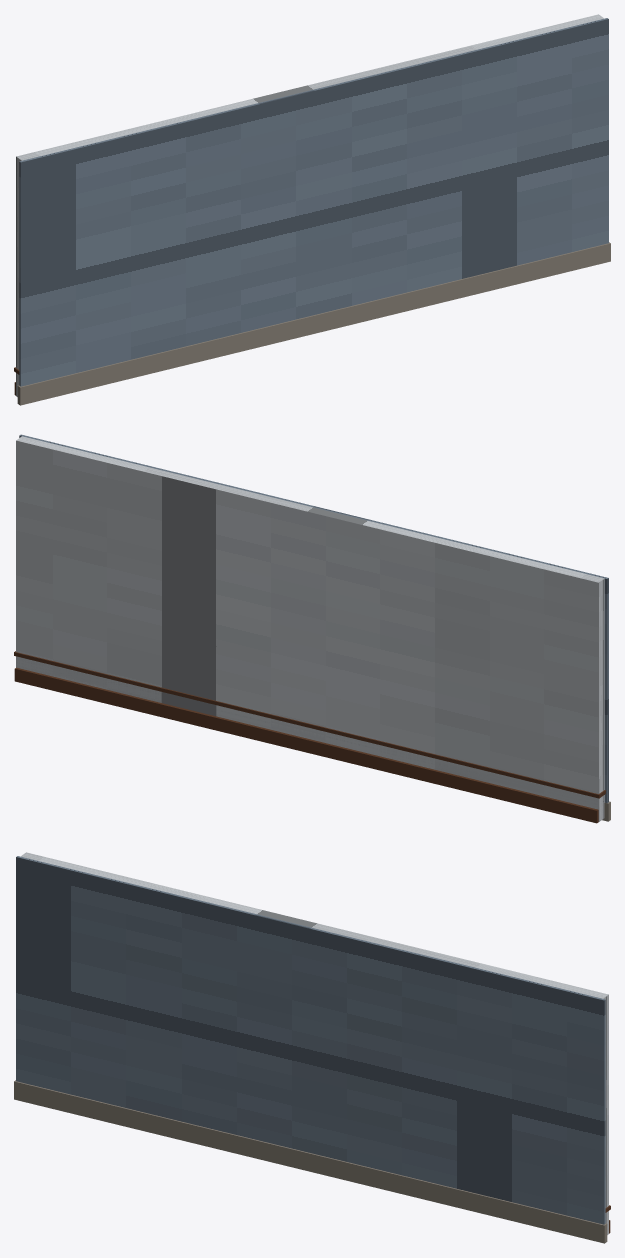
The model's file is back.glb.
3 renders of one model, top to bottom at view 1: azimuth 30°, elevation 25°; view 2: azimuth 150°, elevation 25°; view 3: azimuth 330°, elevation 25°, orthographic.
Parts seen in each view (by area): view 1: Box3, Box4, Box1; view 2: Box1, Box2, Box5, Box6, Box3; view 3: Box3, Box4, Box1.
Boxes of the visible parts, box(x1,y1,x2,y2) form: Box3: box(19, 18, 608, 386); Box4: box(17, 242, 610, 405); Box1: box(16, 14, 603, 396); Box1: box(16, 436, 604, 821); Box2: box(14, 667, 598, 823); Box5: box(16, 656, 604, 820); Box6: box(14, 651, 605, 798); Box3: box(19, 434, 608, 802); Box3: box(16, 856, 605, 1224); Box4: box(14, 1080, 607, 1243); Box1: box(21, 852, 608, 1234).
Size of the model in its own units: 8.77 by 3.44 by 0.25.
4 materials, 2 textured.
